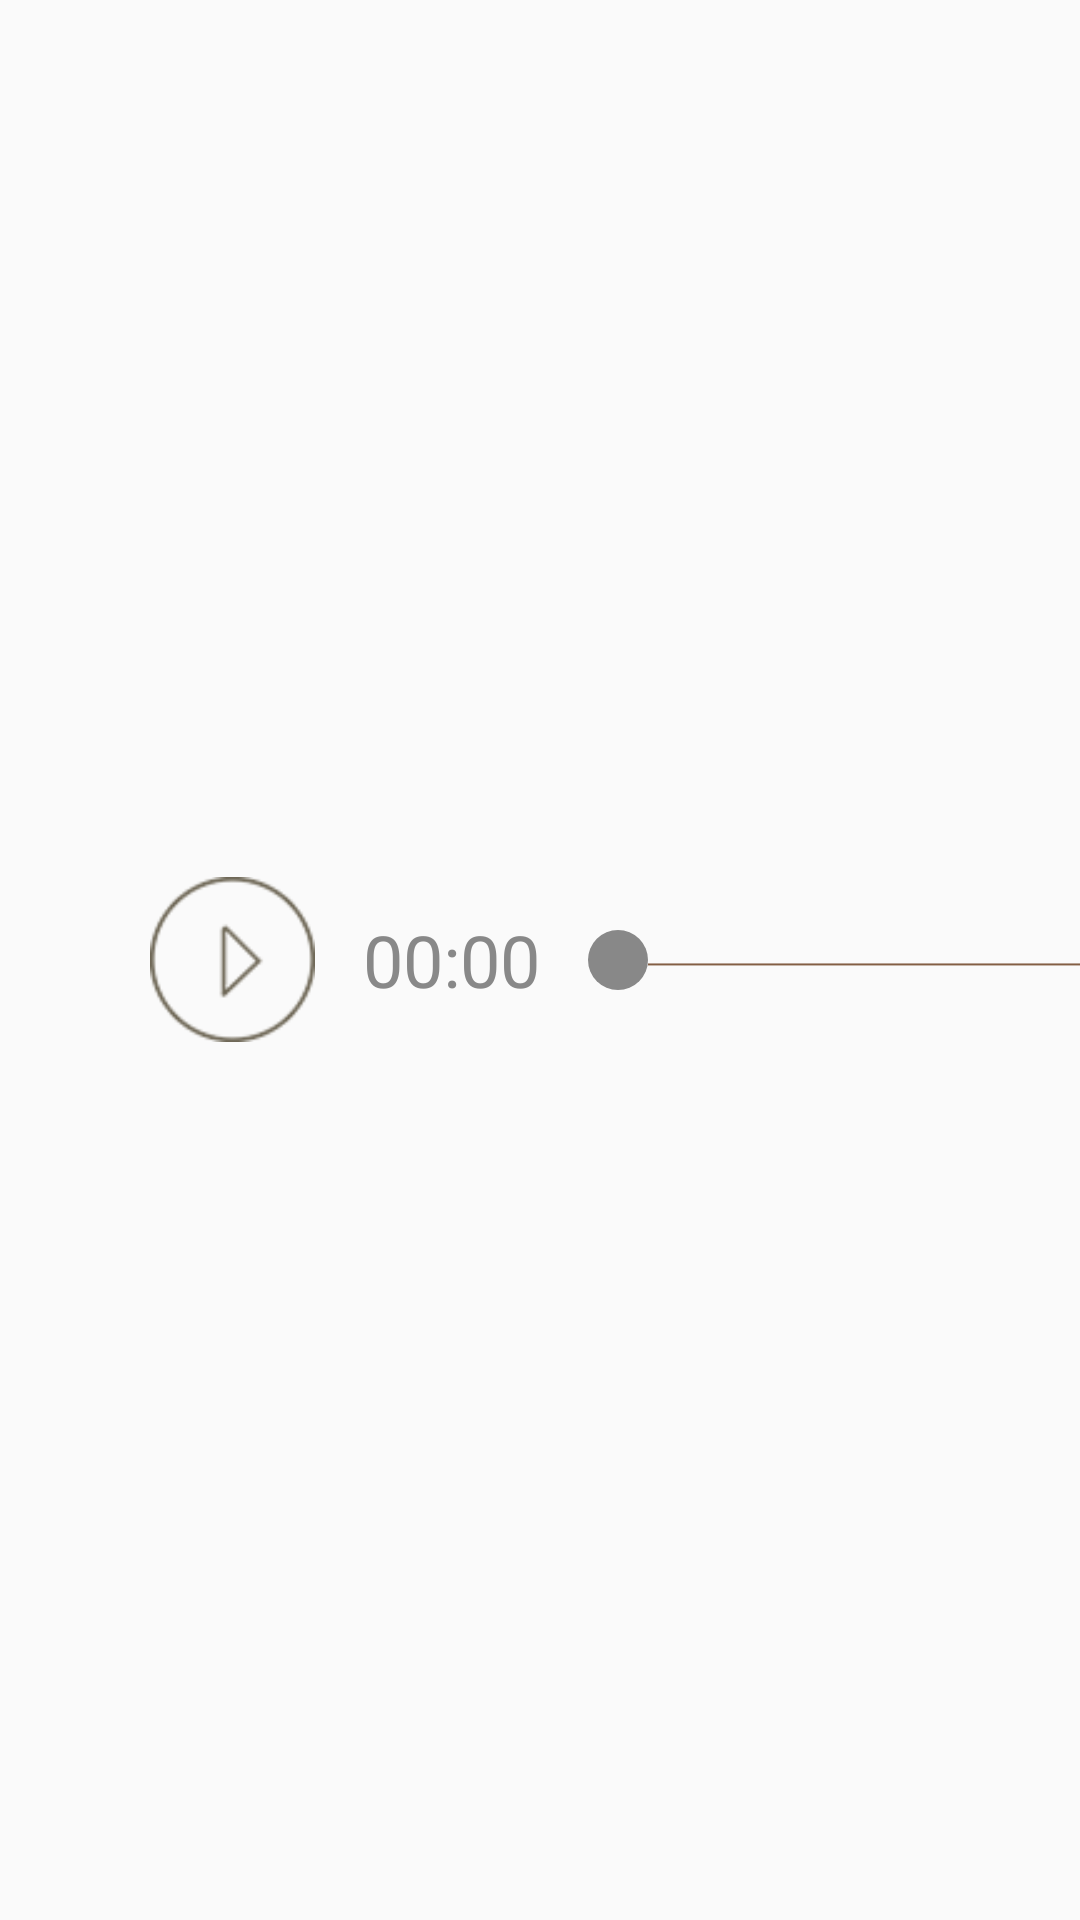

Named icons in this screenshot (1080x1920) and their centers, (x=x, y=y):
dao play: (x=232, y=959)
